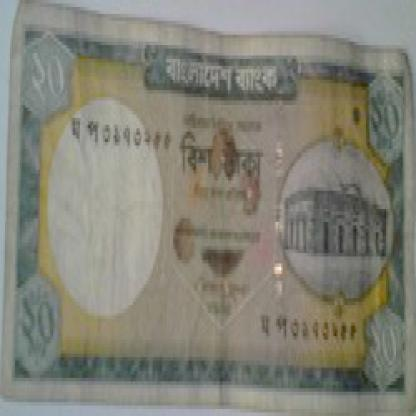Twenty: (174, 118, 274, 208), (353, 59, 406, 173), (13, 278, 68, 367), (22, 42, 83, 121), (351, 312, 406, 385)
